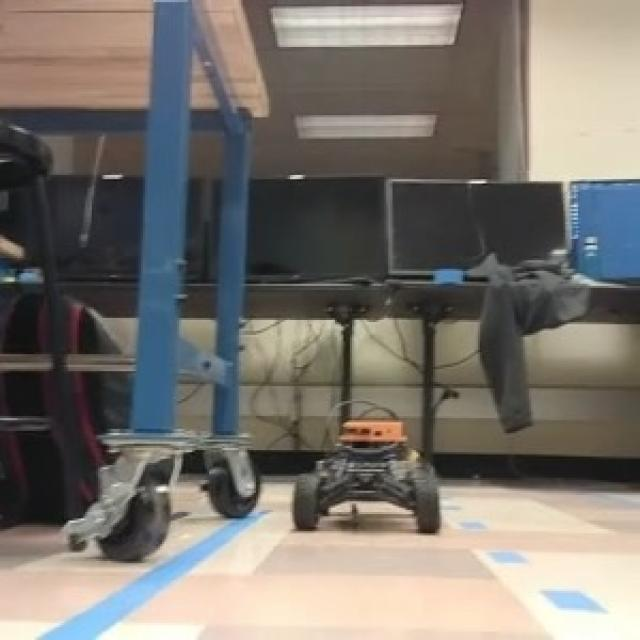obstacle: (288, 416, 450, 538)
